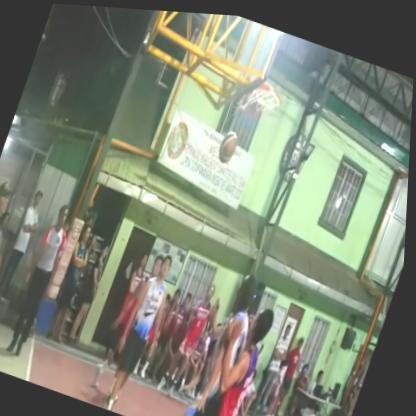basketball: (214, 119, 247, 168)
rim: (234, 64, 290, 126)
